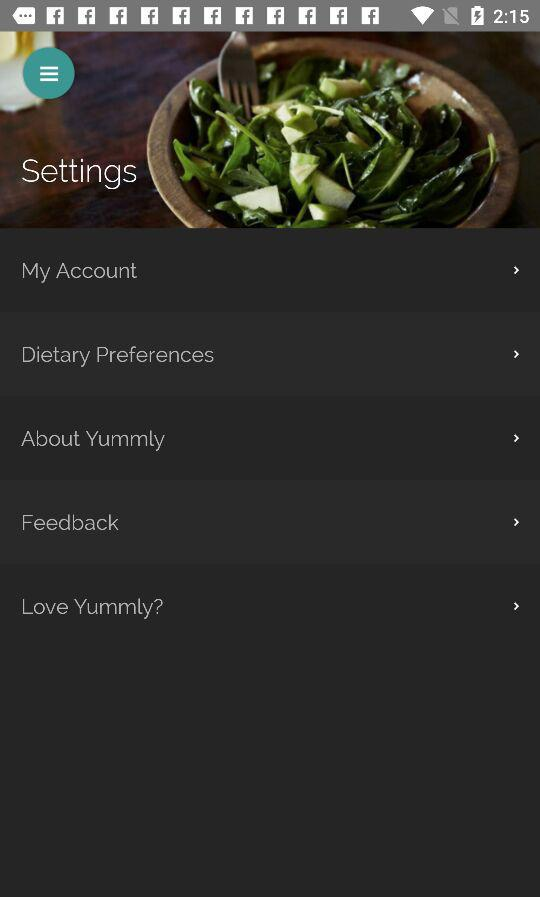Icon: (23, 48, 76, 101), (507, 262, 521, 279), (507, 430, 521, 447), (508, 346, 521, 363), (508, 514, 521, 531), (508, 599, 521, 616)
Image: (1, 33, 540, 230)
Text: (23, 346, 215, 369), (22, 158, 138, 191), (23, 597, 165, 621), (21, 430, 167, 453), (23, 263, 139, 285), (23, 513, 120, 532)
UpperTaskBar: (1, 1, 540, 33)
